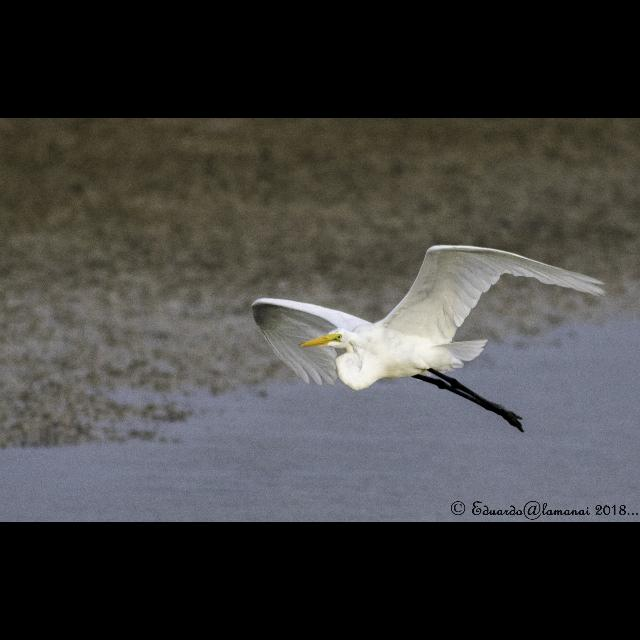egret: (250, 245, 602, 433)
